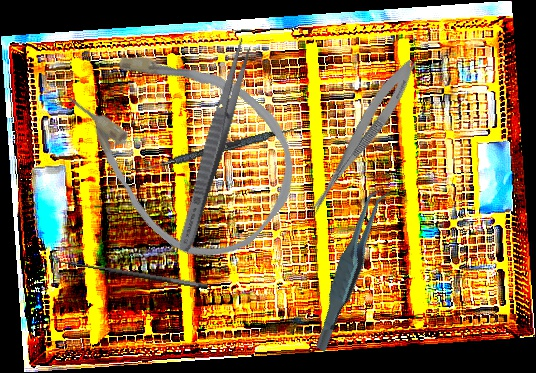Cannula: (40, 7, 324, 284)
Dressing Forceps: (173, 36, 256, 254)
Hook Surgical: (51, 254, 209, 302)
Micro Scissor: (302, 54, 422, 224)
Spatula Surgical: (131, 119, 306, 179)
Tissue Forceps: (283, 184, 418, 353)
